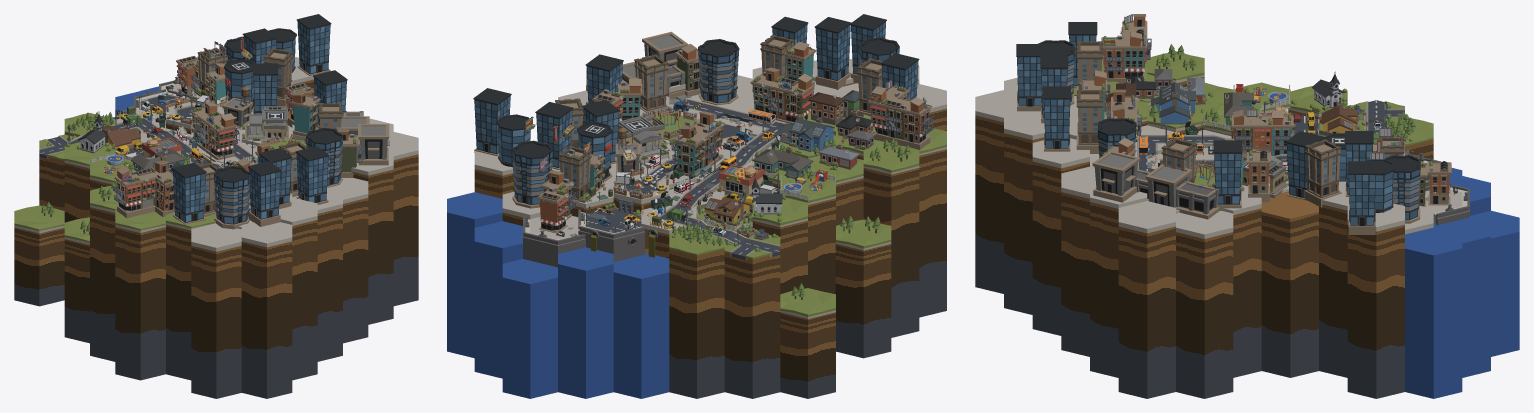
Rendered from polygon_mini_free_clean.glb.
3 views of the same model, side by side, from view 1: azimuth 30°, elevation 25°; view 2: azimuth 150°, elevation 25°; view 3: azimuth 270°, elevation 25° (orthographic). The views are drawn at different scales.
Visible parts, largest first — view 1: Object_4, Object_3, Object_2, Object_8; view 2: Object_4, Object_3, Object_8, Object_2; view 3: Object_4, Object_3, Object_8, Object_2.
Boxes of the visible parts, x1,y1,x2,y2 form: Object_4: (14,47,418,398); Object_3: (78,14,389,234); Object_2: (41,37,306,233); Object_8: (113,86,158,118); Object_4: (474,14,946,398); Object_3: (473,31,927,246); Object_8: (447,192,669,398); Object_2: (523,93,910,299); Object_4: (975,14,1462,398); Object_3: (1068,14,1451,234); Object_8: (1405,168,1519,398); Object_2: (1138,44,1469,225).
Bounding box in the file's own units: 36.22 × 22.65 × 47.5.
7 materials, 7 textured.
